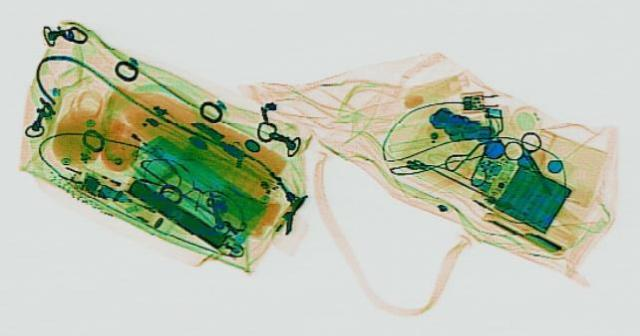Scissors: (487, 128, 573, 196)
